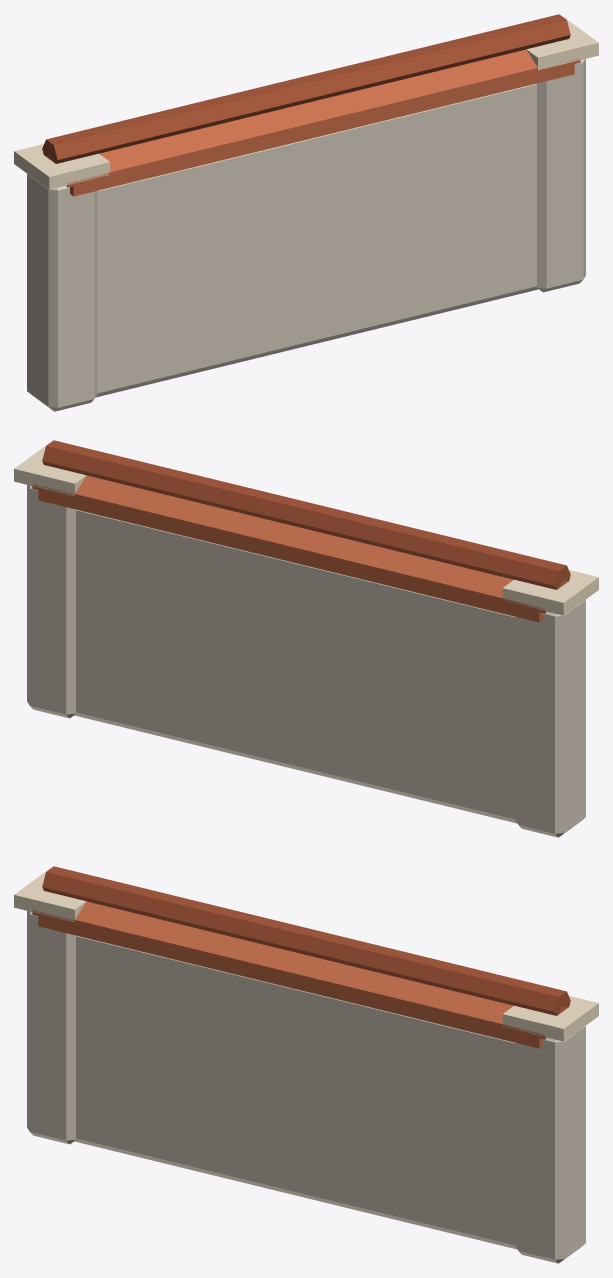
Rendered from wall_low.glb.
3 views of the same model, one above another, from view 1: azimuth 30°, elevation 25°; view 2: azimuth 150°, elevation 25°; view 3: azimuth 330°, elevation 25° (orthographic).
Visible parts, largest first — view 1: wall_low; view 2: wall_low; view 3: wall_low.
Part boxes in pixels (x1,y1,x2,y2): wall_low: [14, 14, 598, 411]; wall_low: [14, 440, 598, 837]; wall_low: [14, 866, 598, 1263].
Size of the model in its own units: 4.5 by 2.04 by 0.4999.
